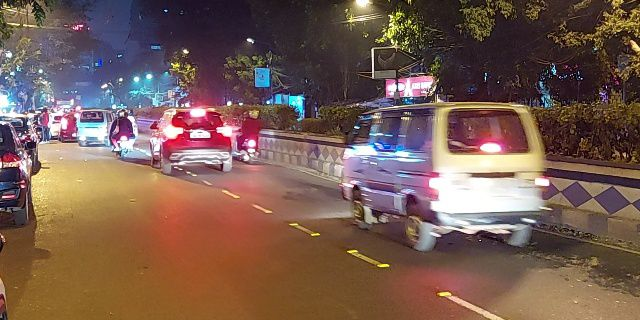Car: (149, 101, 241, 176)
Van: (347, 104, 550, 251)
